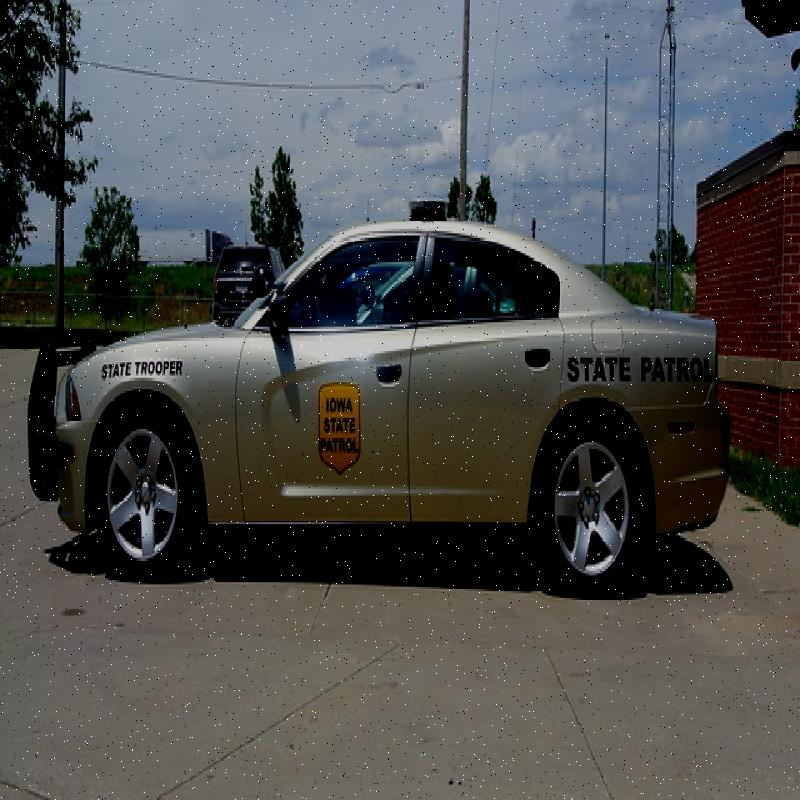car: (42, 176, 735, 598)
